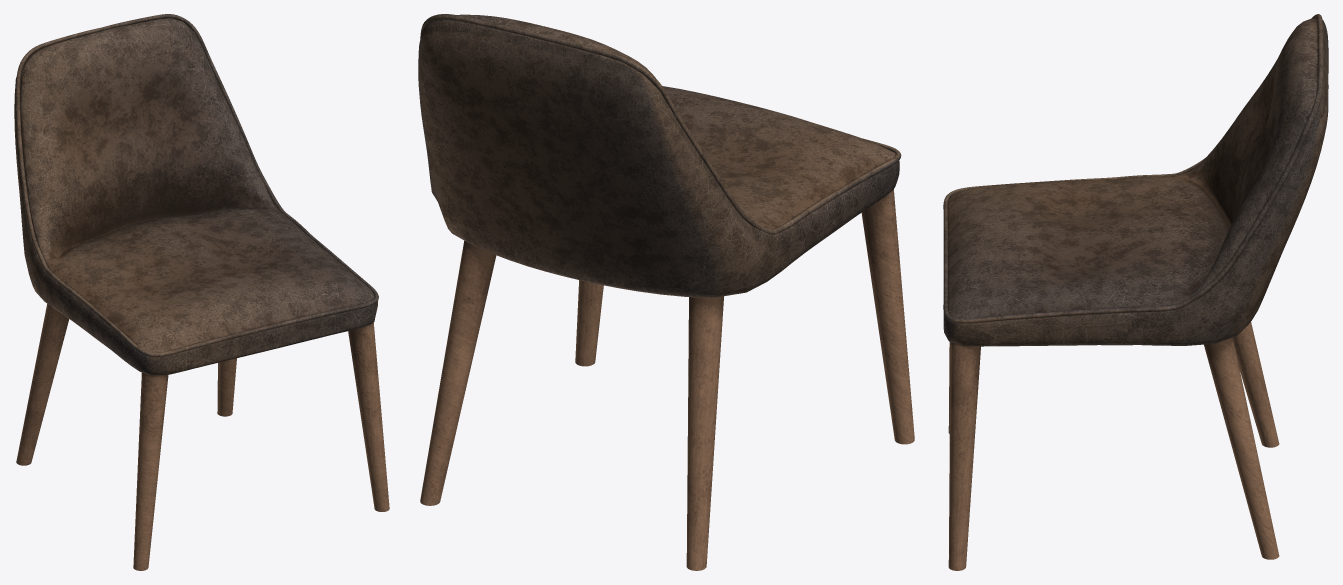
The picture shows the model from 3 angles, left to right: view 1: azimuth 30°, elevation 25°; view 2: azimuth 150°, elevation 25°; view 3: azimuth 270°, elevation 25°; orthographic projection. The views are drawn at different scales.
Parts seen in each view (by area): view 1: 3D_chair_10; view 2: 3D_chair_10; view 3: 3D_chair_10.
Boxes of the visible parts, <box> form: 3D_chair_10: <box>14,14,389,570</box>; 3D_chair_10: <box>418,14,914,570</box>; 3D_chair_10: <box>943,14,1328,570</box>.
Bounding box in the file's own units: 0.5398 × 0.8004 × 0.6196.
1 material, 1 textured.
